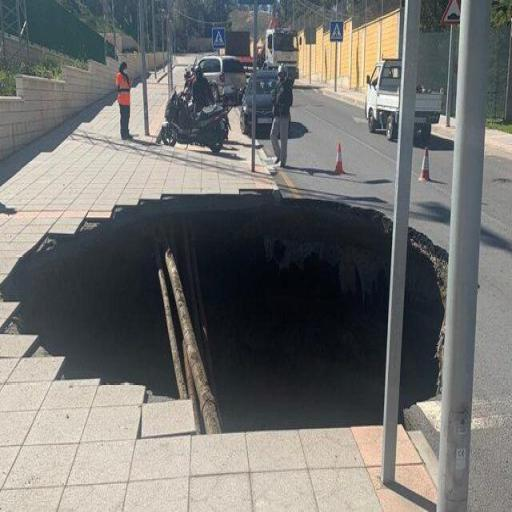Concentric_Crack: (0, 190, 392, 433), (400, 230, 447, 409)
